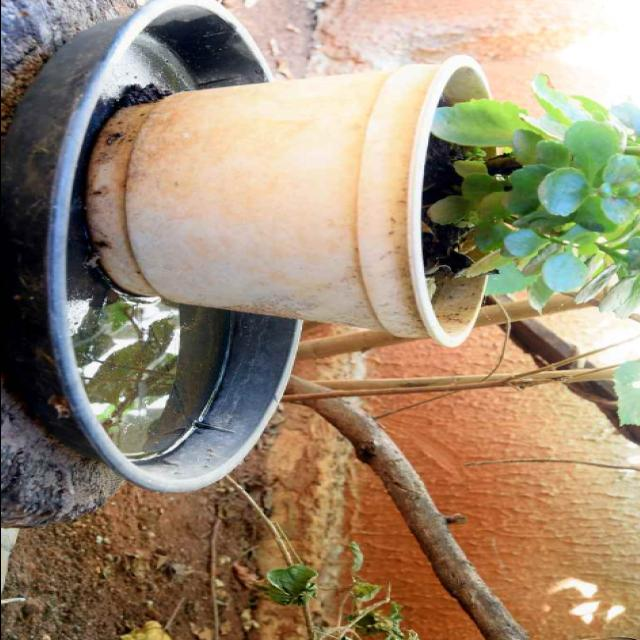Breeding Place: (72, 45, 513, 355), (47, 1, 280, 507)
